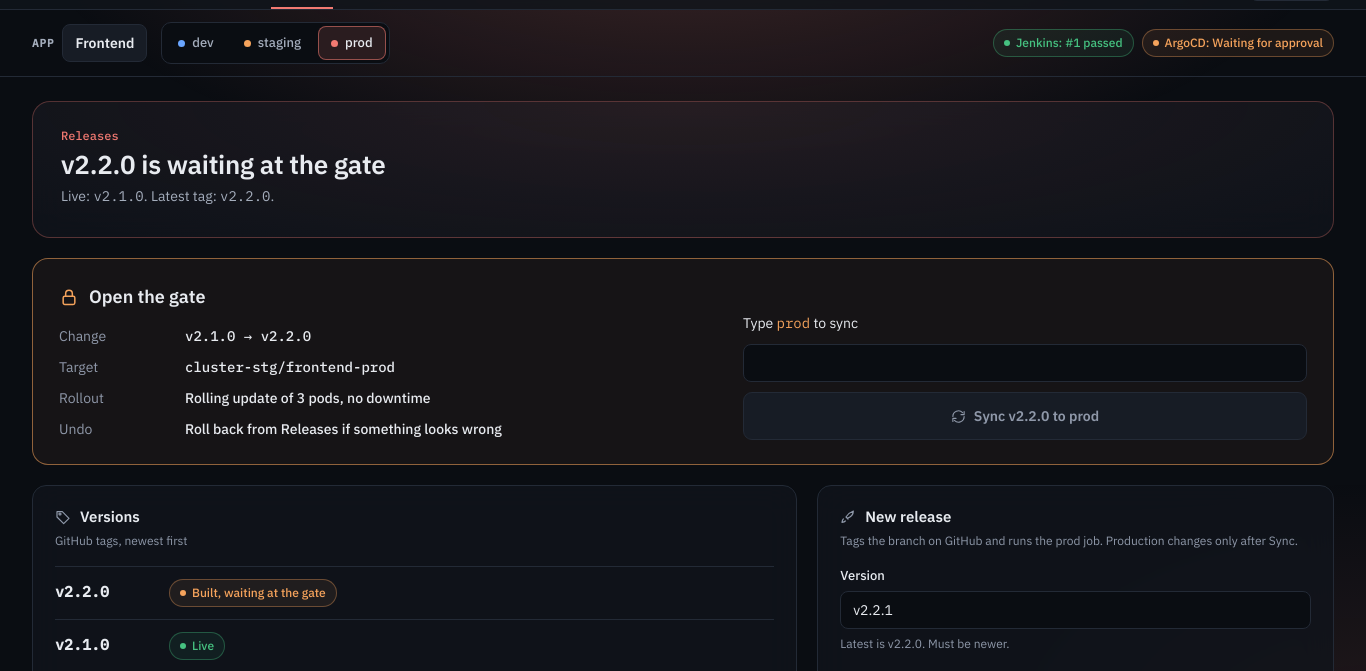
Releases › new release suggests the next version and rejects bad formats
Replace the text in the field labelled "Version" with "2.3" at (1076, 610), box [840,591,1311,629]
(page scrolled)
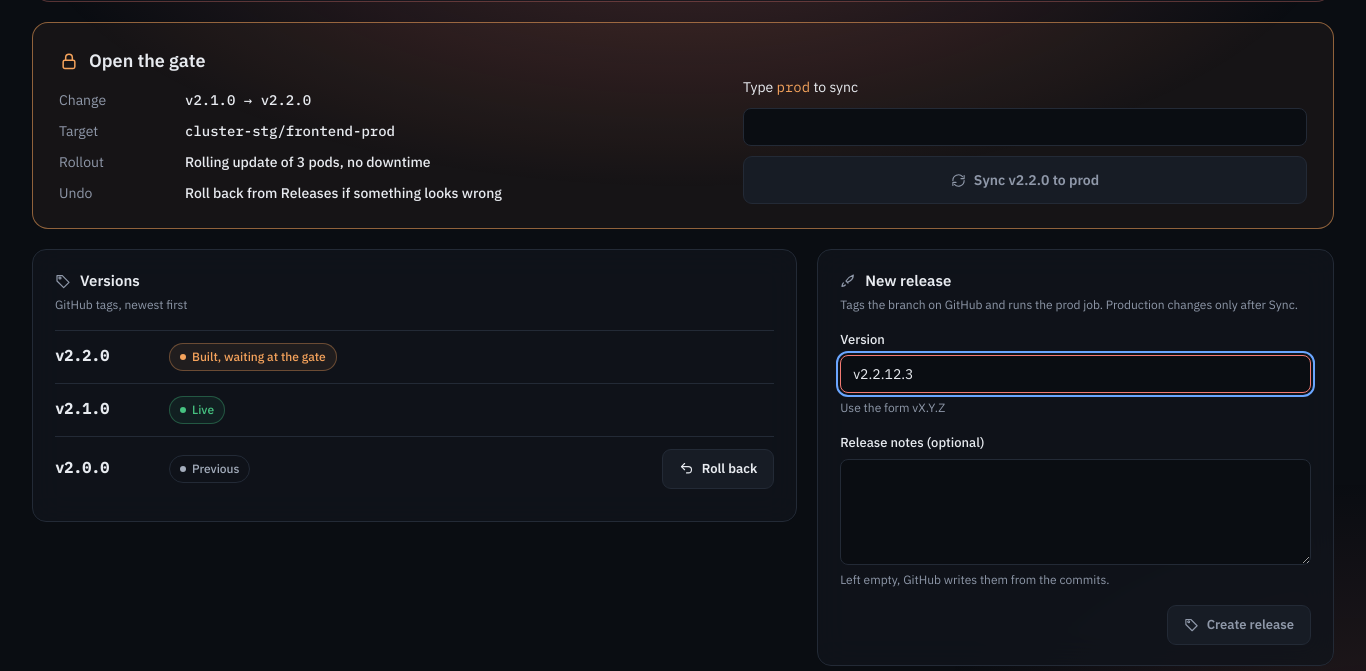
Expected: the text "Use the form vX.Y.Z" is shown, [840,400,945,415]
Expected: the button "Create release" is disabled, [1167,605,1311,645]
